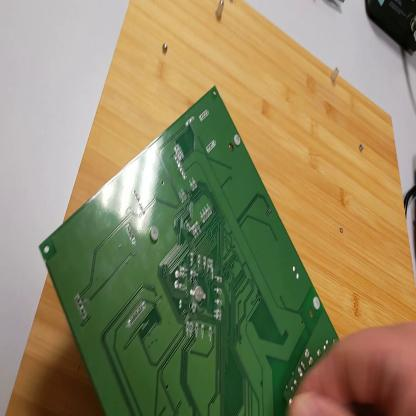hand: (288, 318, 416, 416)
low voltage board: (40, 88, 362, 415)
welder station: (364, 3, 416, 55)
working area: (7, 1, 416, 416)
